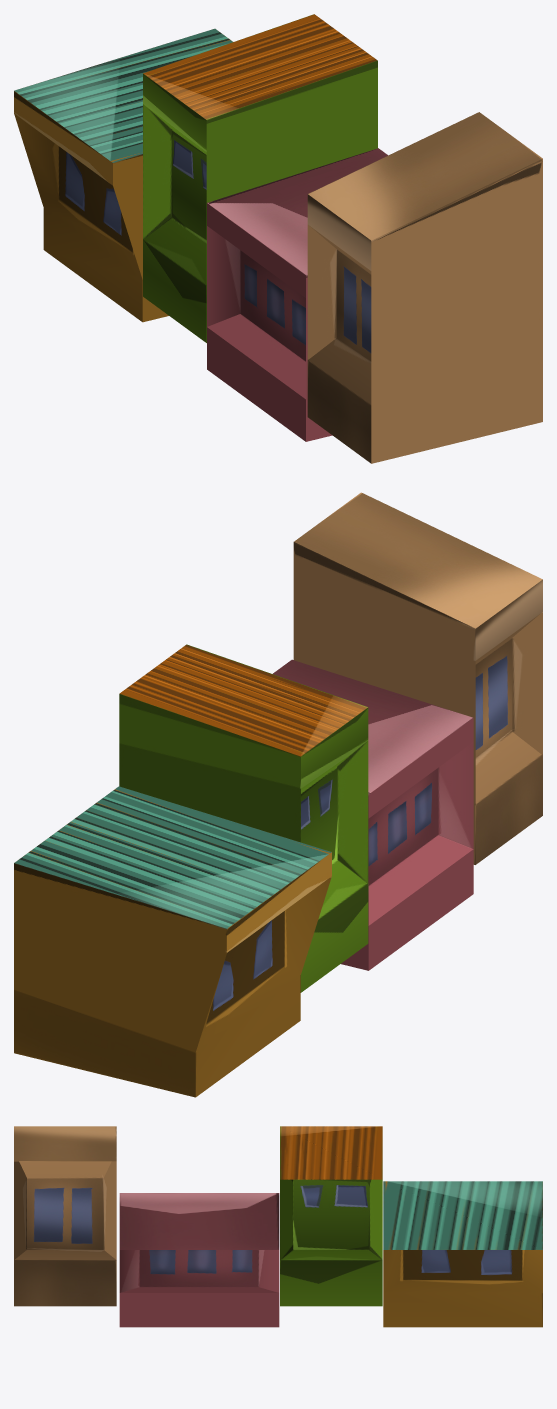
The model's file is nha.fbx.
The picture shows the model from 3 angles, top to bottom: view 1: azimuth 30°, elevation 25°; view 2: azimuth 150°, elevation 25°; view 3: azimuth 270°, elevation 25°; orthographic projection. The views are drawn at different scales.
Visible parts, largest first — view 1: pCube118; view 2: pCube118; view 3: pCube118.
Boxes of the visible parts, left/top/right/bottom form: pCube118: left=14, top=14, right=542, bottom=463; pCube118: left=14, top=492, right=542, bottom=1097; pCube118: left=14, top=1126, right=542, bottom=1327.
Size of the model in its own units: 33.17 by 45.61 by 93.64.
